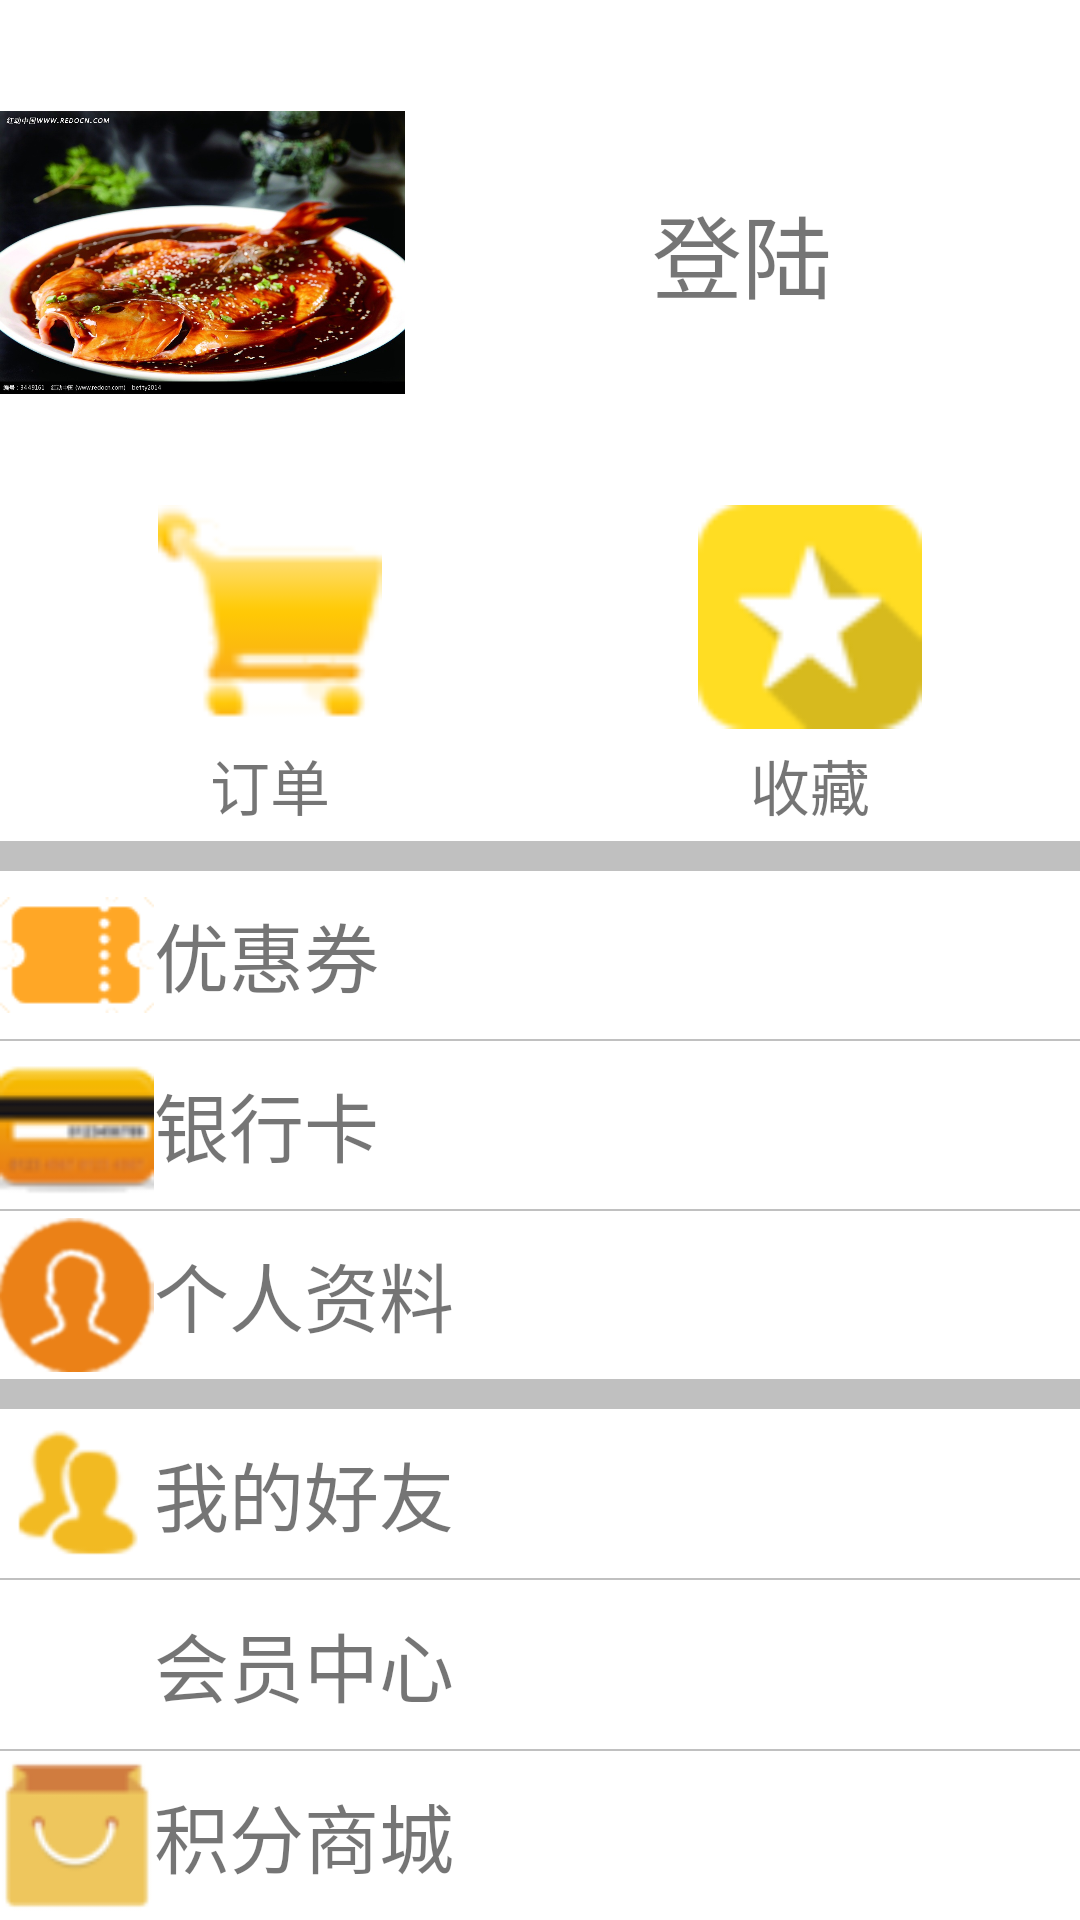

Screen size 1080×1920. Icon name, then its center in pixels as (x,y):
card: (77,1129)
friend: (78,1493)
quan: (77,955)
